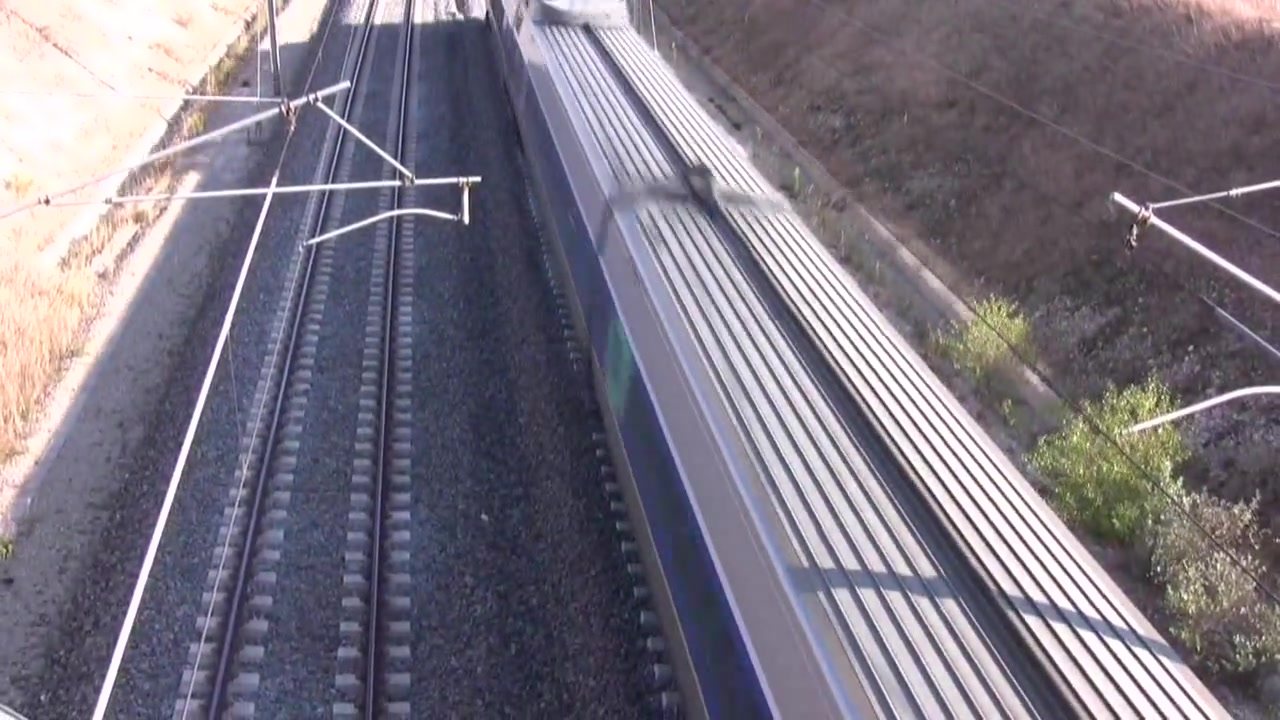train: (482, 1, 1240, 720)
